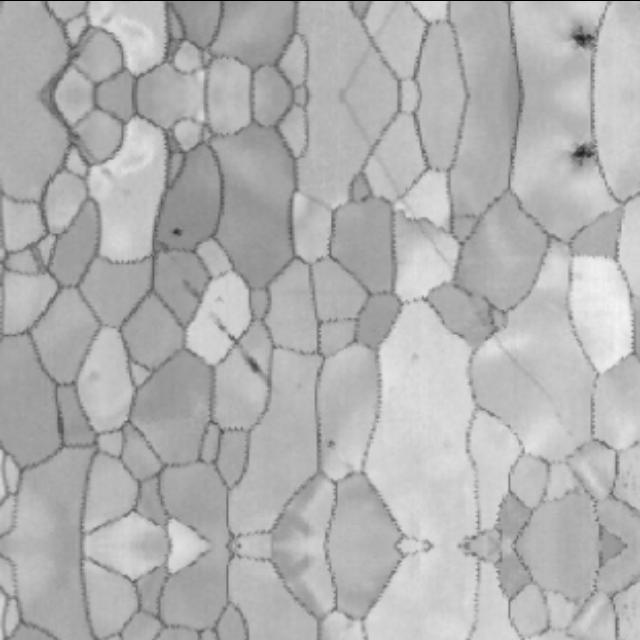good_void: (240, 346, 263, 376), (564, 134, 582, 171), (564, 17, 582, 54), (165, 216, 190, 241), (84, 364, 104, 388), (325, 432, 338, 449), (409, 349, 425, 362)
